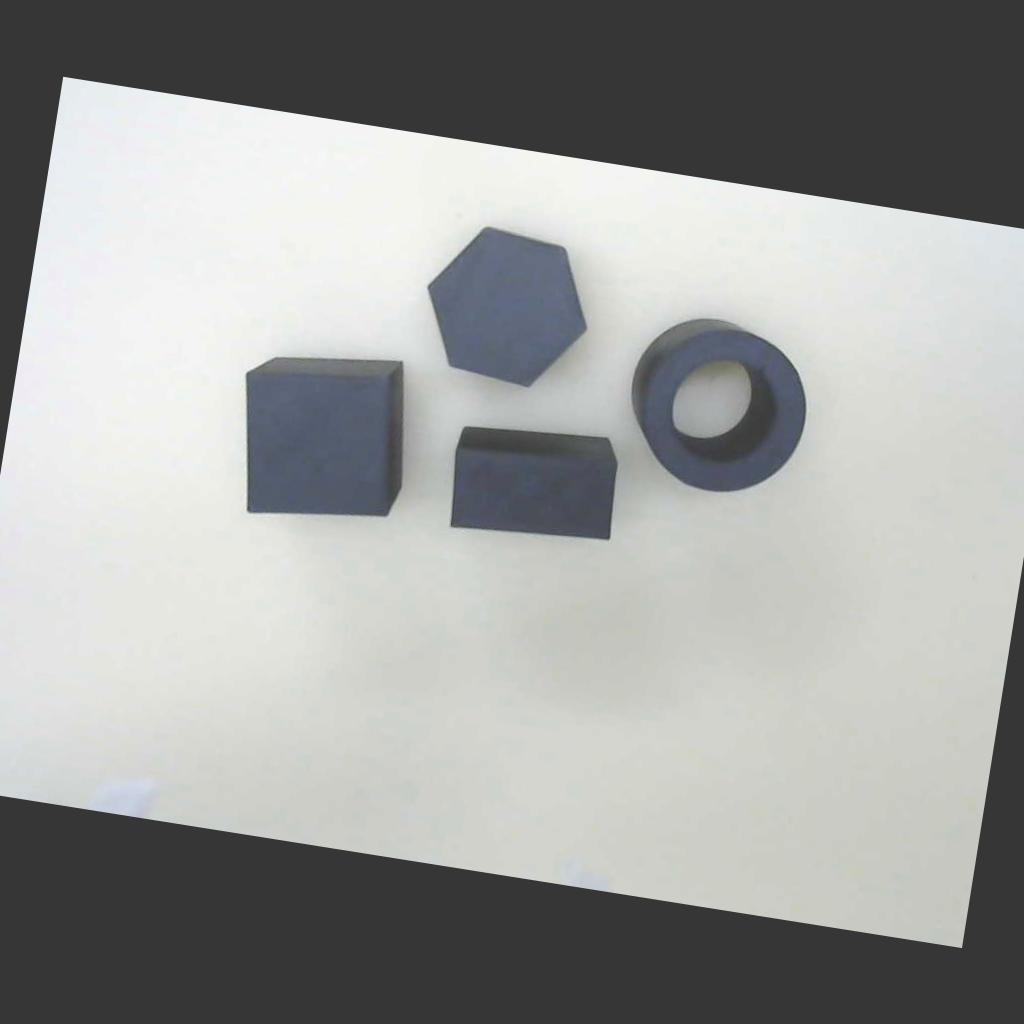hexagon: (406, 214, 610, 406)
rectangle: (437, 421, 632, 550)
ring: (594, 292, 833, 522)
square: (221, 333, 426, 535)
